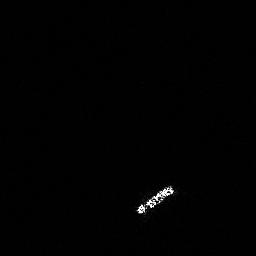ship: (132, 180, 178, 217)
